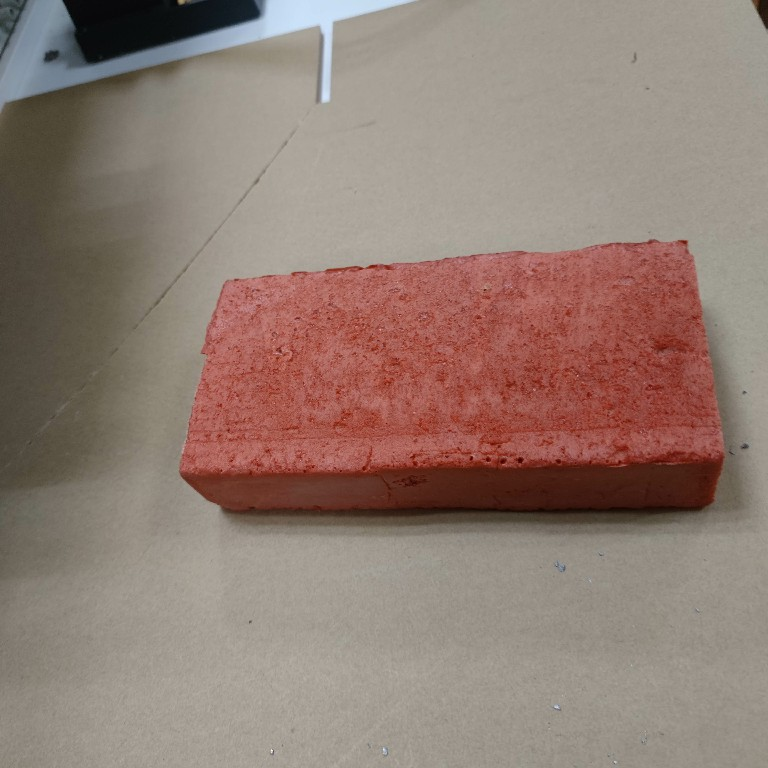brick: (169, 236, 732, 520)
